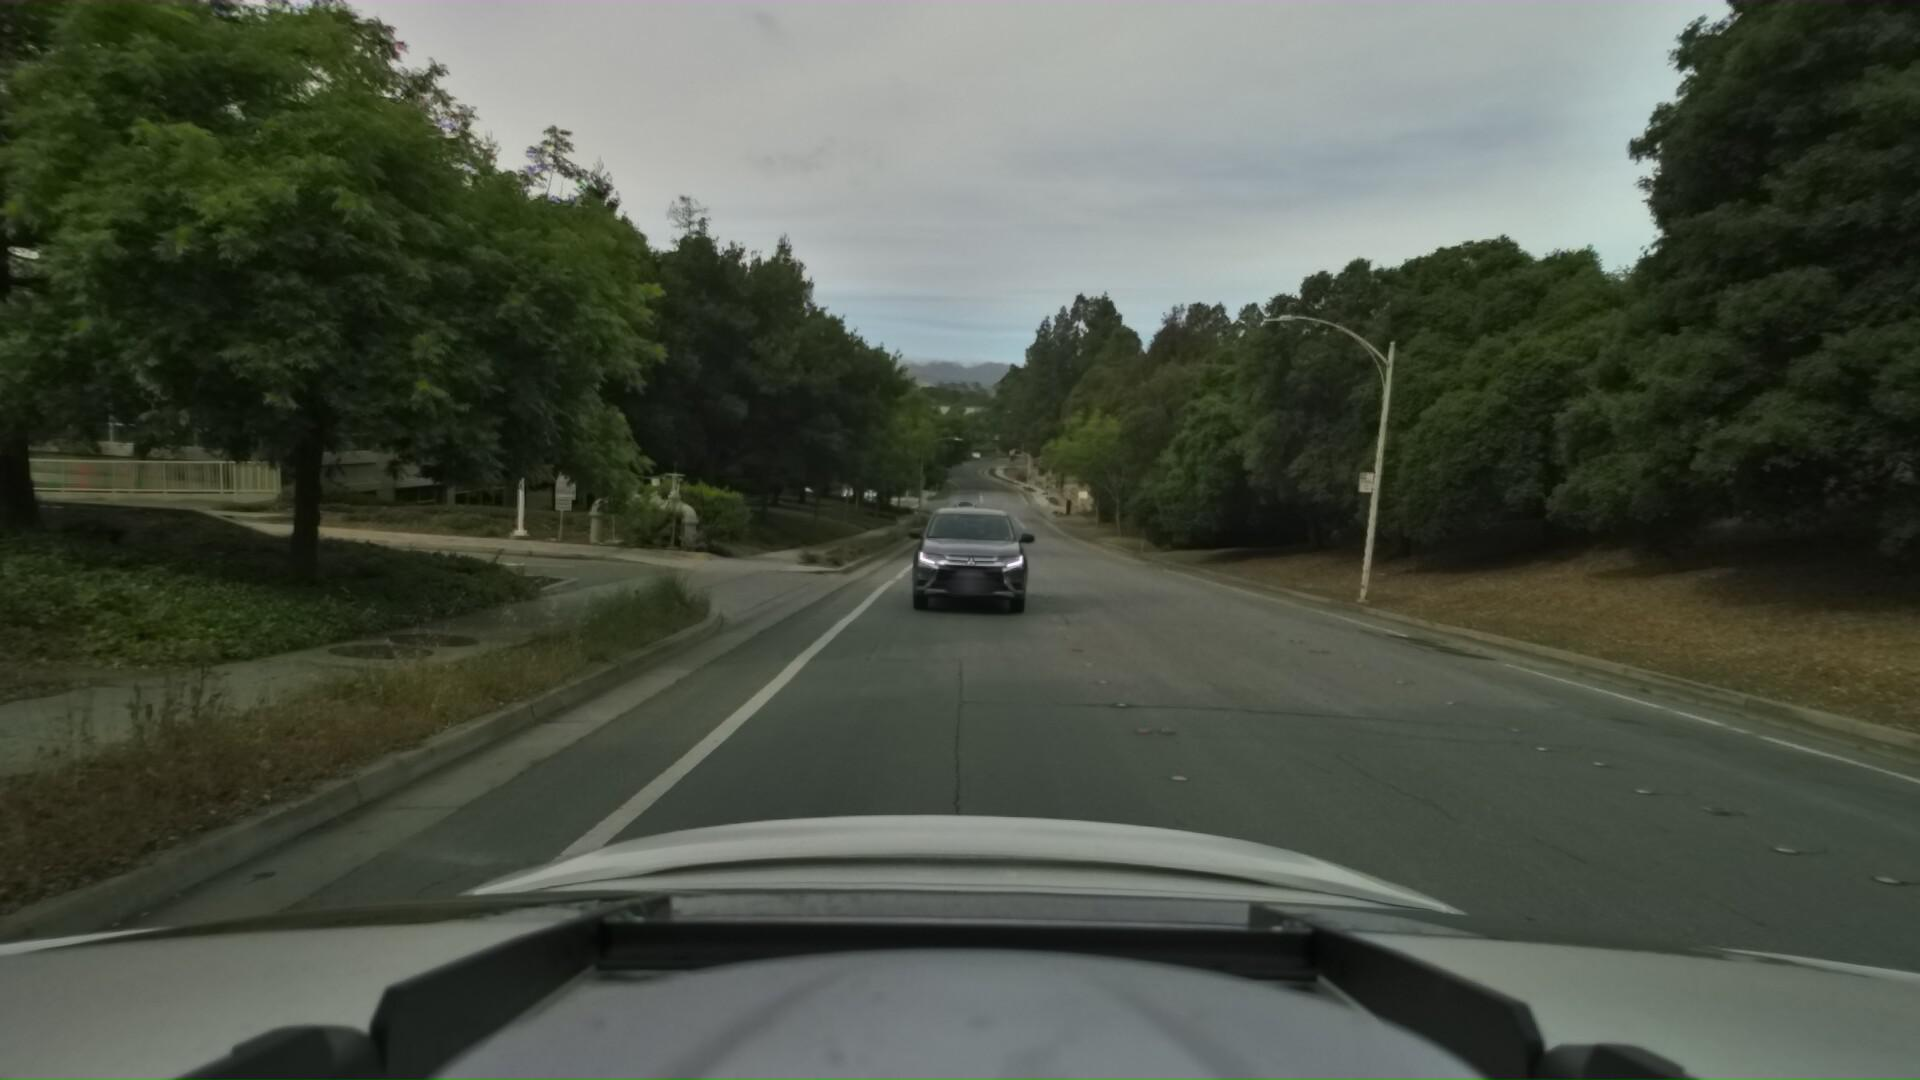car: (898, 484, 1038, 649)
